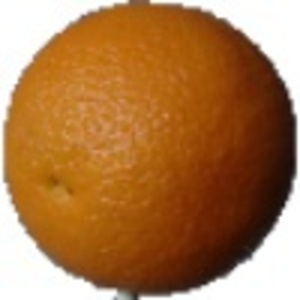laranja: (5, 3, 297, 297)
